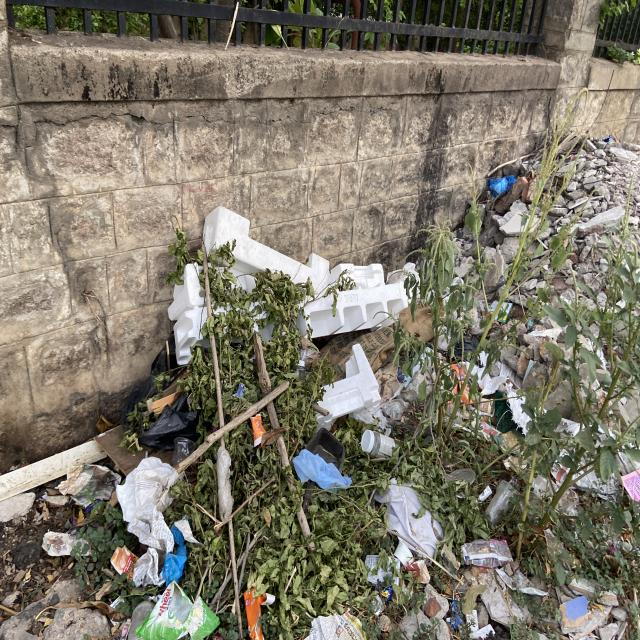chai_thuy_tinh: (361, 430, 396, 458)
giay: (116, 457, 178, 553), (57, 465, 121, 507), (305, 613, 367, 640), (462, 540, 513, 569), (132, 548, 165, 588), (110, 546, 137, 580)
giay_goi: (136, 581, 219, 640), (243, 589, 275, 640), (250, 413, 265, 447)
ly_hop_giay: (394, 542, 414, 568)
nhua: (374, 478, 444, 558), (138, 393, 199, 450), (293, 448, 352, 492), (485, 480, 516, 525), (216, 446, 233, 522), (171, 437, 195, 466)
rac_huu_co: (225, 420, 401, 639), (209, 273, 331, 460), (176, 331, 289, 474), (166, 441, 236, 634), (420, 427, 480, 517), (318, 326, 395, 379), (399, 304, 434, 342), (275, 433, 294, 491), (297, 508, 314, 550), (203, 244, 211, 316)
xop: (203, 206, 408, 337), (317, 343, 381, 430), (167, 263, 207, 365)
